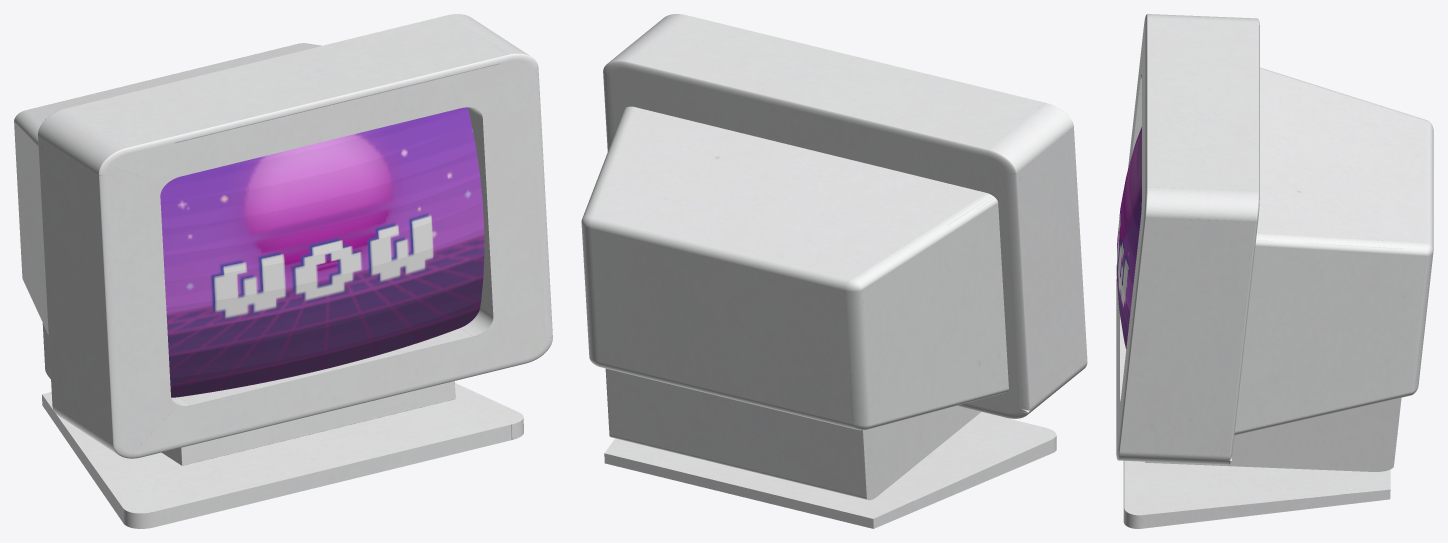
File: crtmonitor.glb
The picture shows the model from 3 angles, left to right: view 1: azimuth 30°, elevation 25°; view 2: azimuth 150°, elevation 25°; view 3: azimuth 270°, elevation 25°; orthographic projection. The views are drawn at different scales.
Visible parts, largest first — view 1: Sphere; view 2: Sphere; view 3: Sphere.
Part boxes in pixels (box(x1,y1,x2,y2)): Sphere: box(14, 14, 552, 528); Sphere: box(581, 14, 1087, 528); Sphere: box(1116, 14, 1433, 528).
Size of the model in its own units: 3.1 by 2.51 by 2.13.
2 materials, 2 textured.
